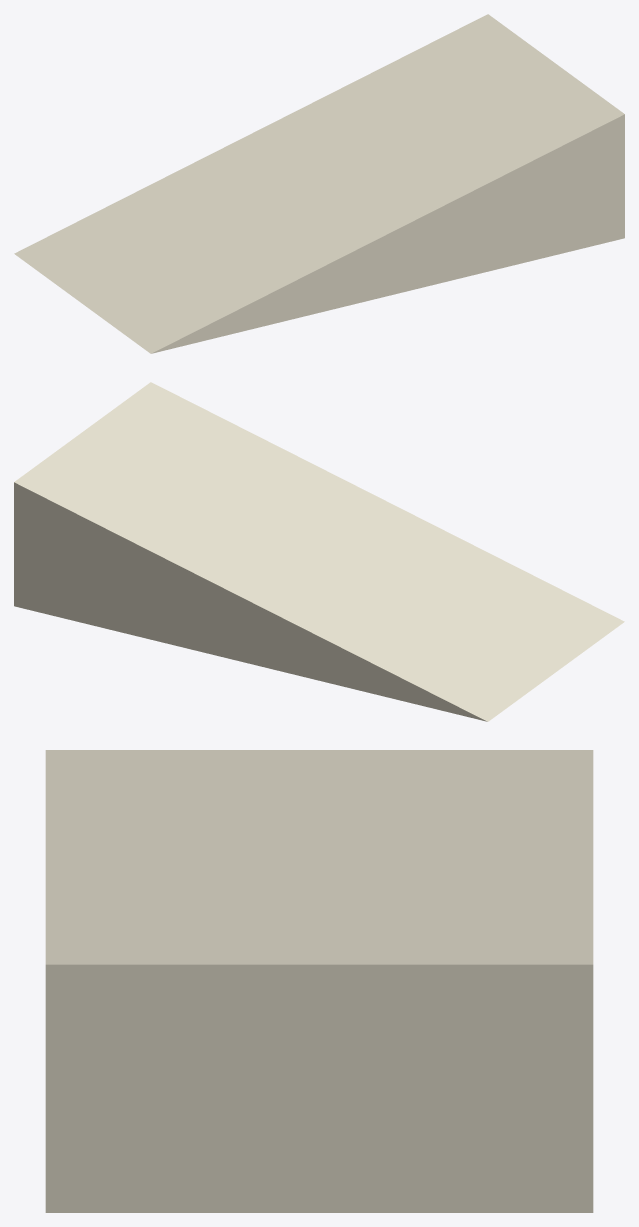
File: bridge-end-ramp.glb
3 views of the same model, one above another, from view 1: azimuth 30°, elevation 25°; view 2: azimuth 150°, elevation 25°; view 3: azimuth 270°, elevation 25° (orthographic). The views are drawn at different scales.
Visible parts, largest first — view 1: bridge-end-ramp; view 2: bridge-end-ramp; view 3: bridge-end-ramp.
Boxes of the visible parts, x1,y1,x2,y2 form: bridge-end-ramp: (14, 14, 624, 353); bridge-end-ramp: (14, 382, 624, 721); bridge-end-ramp: (45, 750, 593, 1212).
Size of the model in its own units: 4 by 1 by 2.
